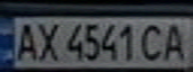1: (115, 20, 139, 62)
4: (63, 20, 84, 62), (100, 20, 121, 61)
5: (81, 20, 103, 62)
A: (157, 20, 193, 62), (9, 19, 42, 62)
C: (136, 20, 169, 62)
X: (33, 18, 60, 63)
